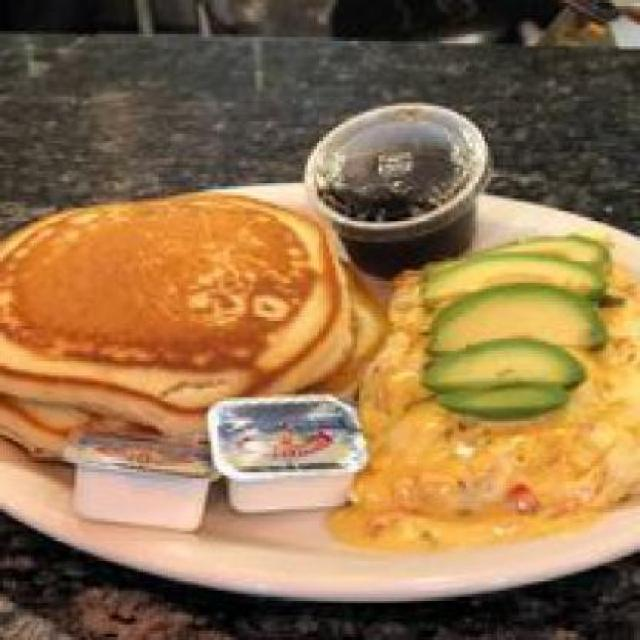pancakes: (3, 189, 357, 451)
